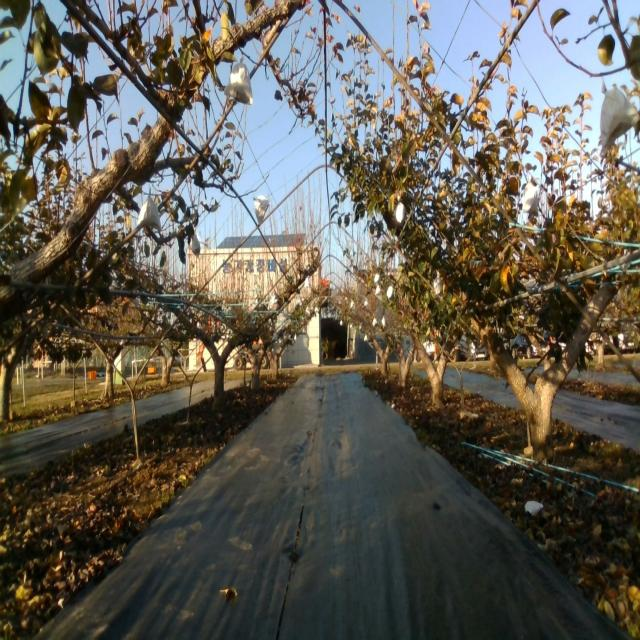pearbags: (601, 86, 640, 154), (226, 57, 255, 109), (136, 197, 162, 232), (253, 194, 270, 226), (522, 183, 537, 216), (393, 202, 405, 228), (191, 232, 201, 260)
